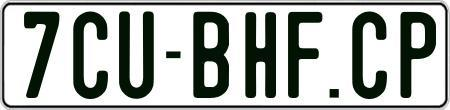7: (21, 11, 58, 99)
B: (190, 10, 232, 100)
C: (352, 9, 388, 101), (73, 9, 108, 98)
F: (285, 11, 324, 97)
H: (242, 9, 275, 96)
P: (399, 11, 435, 97)
U: (117, 9, 157, 97)
